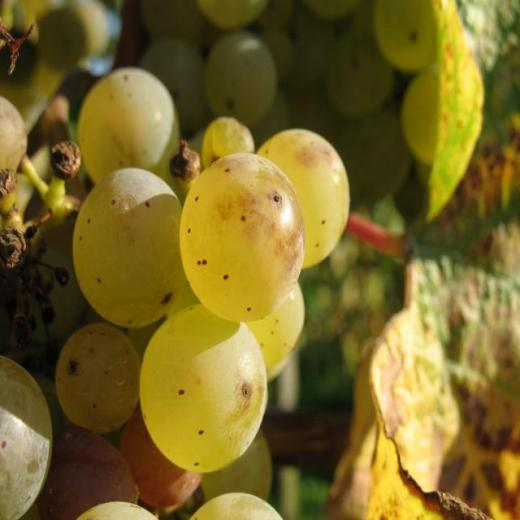Orange: (0, 0, 440, 519)
